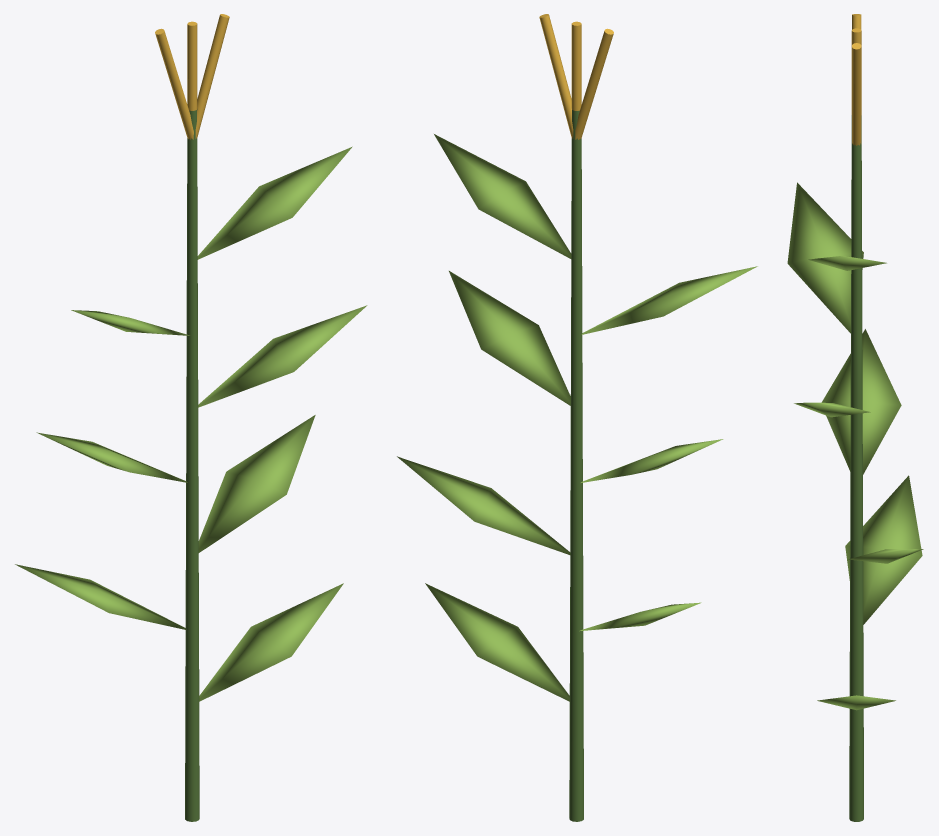
The model's file is crop_5_stage_2.fbx.
The picture shows the model from 3 angles, left to right: view 1: azimuth 30°, elevation 25°; view 2: azimuth 150°, elevation 25°; view 3: azimuth 270°, elevation 25°; orthographic projection.
Parts seen in each view (by area): view 1: crop_5_stage_2; view 2: crop_5_stage_2; view 3: crop_5_stage_2.
Boxes of the visible parts, box(x1,y1,x2,y2) form: crop_5_stage_2: box(15, 14, 367, 821); crop_5_stage_2: box(397, 14, 757, 821); crop_5_stage_2: box(787, 14, 923, 821).
Size of the model in its own units: 0.3634 by 0.91 by 0.1431.
1 material, 1 textured.
